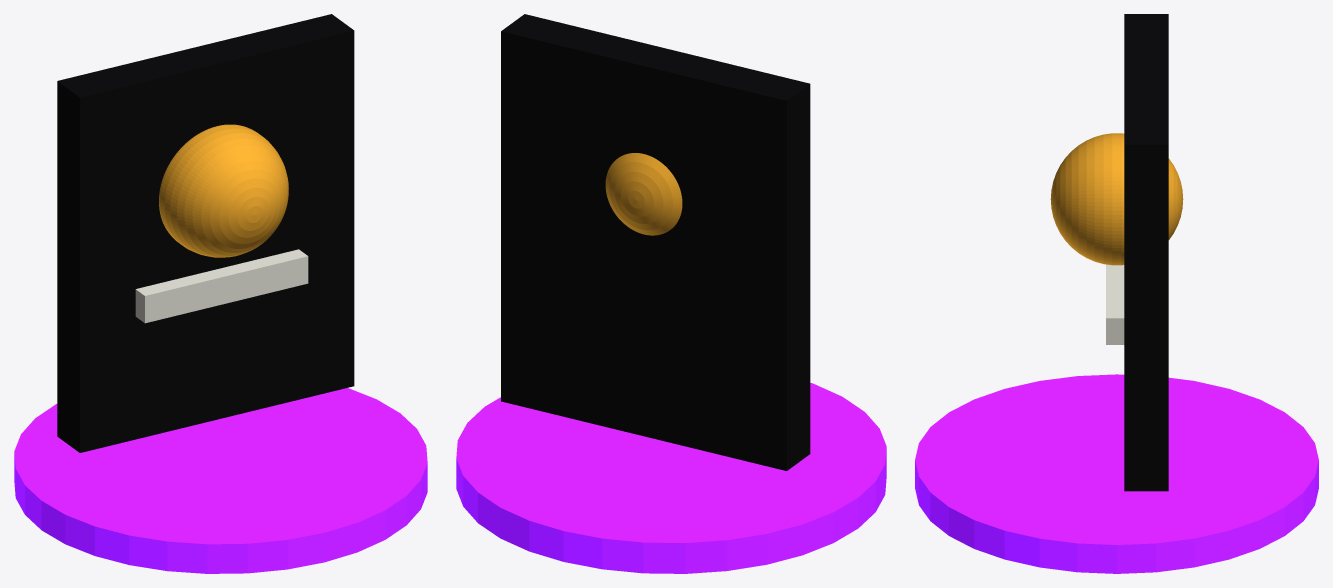
Rendered from modelling_agency_badge.dae.
The picture shows the model from 3 angles, left to right: view 1: azimuth 30°, elevation 25°; view 2: azimuth 150°, elevation 25°; view 3: azimuth 270°, elevation 25°; orthographic projection. The views are drawn at different scales.
Visible parts, largest first — view 1: 05_11_Popular_Modelling_Agency_Badge_part_01, 05_11_Popular_Modelling_Agency_Badge_ROOT_base, 05_11_Popular_Modelling_Agency_Badge_part_02, 05_11_Popular_Modelling_Agency_Badge_part_03; view 2: 05_11_Popular_Modelling_Agency_Badge_part_01, 05_11_Popular_Modelling_Agency_Badge_ROOT_base, 05_11_Popular_Modelling_Agency_Badge_part_02; view 3: 05_11_Popular_Modelling_Agency_Badge_ROOT_base, 05_11_Popular_Modelling_Agency_Badge_part_01, 05_11_Popular_Modelling_Agency_Badge_part_02, 05_11_Popular_Modelling_Agency_Badge_part_03.
Boxes of the visible parts, x1=… form: 05_11_Popular_Modelling_Agency_Badge_part_01: x1=57, y1=14, x2=354, y2=452; 05_11_Popular_Modelling_Agency_Badge_ROOT_base: x1=14, y1=388, x2=427, y2=573; 05_11_Popular_Modelling_Agency_Badge_part_02: x1=159, y1=124, x2=288, y2=257; 05_11_Popular_Modelling_Agency_Badge_part_03: x1=135, y1=249, x2=308, y2=323; 05_11_Popular_Modelling_Agency_Badge_part_01: x1=501, y1=14, x2=810, y2=470; 05_11_Popular_Modelling_Agency_Badge_ROOT_base: x1=456, y1=383, x2=886, y2=573; 05_11_Popular_Modelling_Agency_Badge_part_02: x1=605, y1=153, x2=682, y2=235; 05_11_Popular_Modelling_Agency_Badge_ROOT_base: x1=915, y1=374, x2=1318, y2=573; 05_11_Popular_Modelling_Agency_Badge_part_01: x1=1124, y1=14, x2=1168, y2=491; 05_11_Popular_Modelling_Agency_Badge_part_02: x1=1050, y1=133, x2=1183, y2=265; 05_11_Popular_Modelling_Agency_Badge_part_03: x1=1106, y1=264, x2=1124, y2=344.
Bounding box in the file's own units: 0.76 × 0.85 × 0.76.
